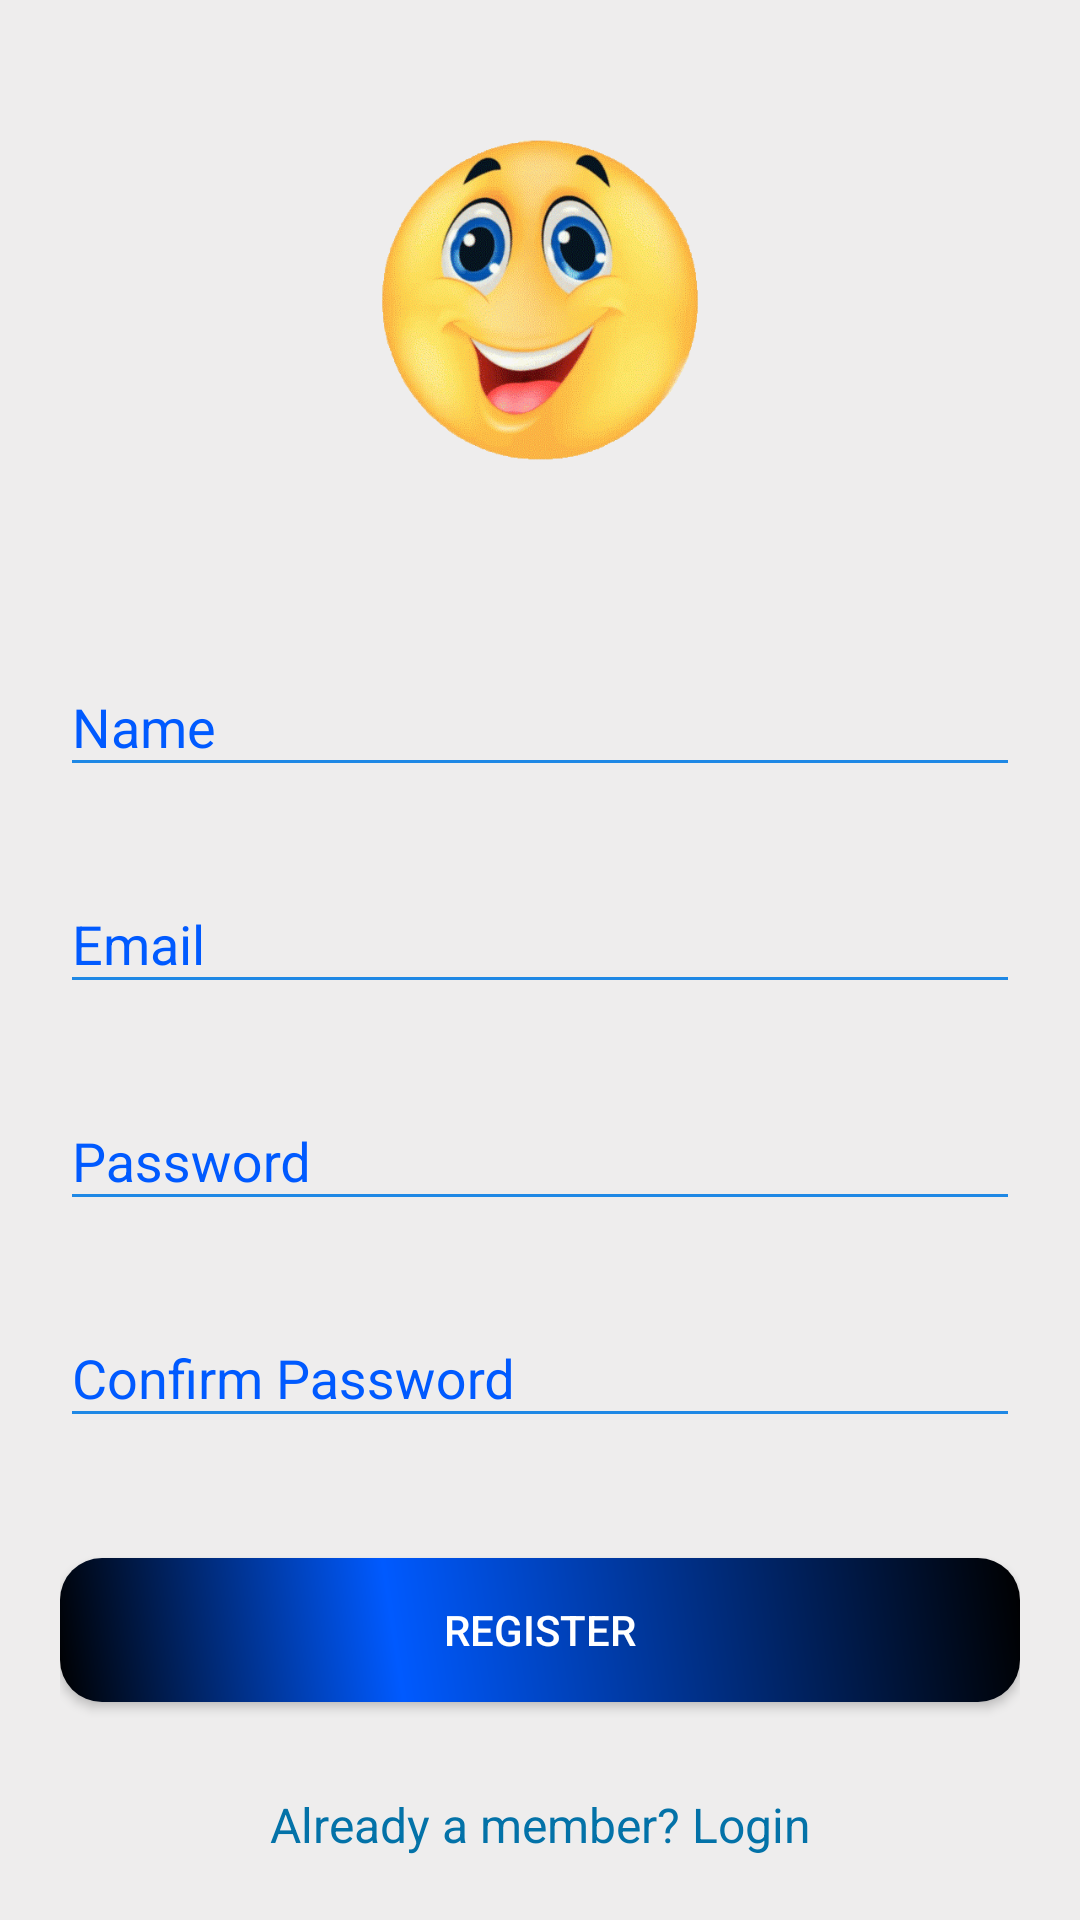

Icons on this 1080 x 1920 Android screen, each with the point to tap as point (x, y):
emoo: point (540, 300)
